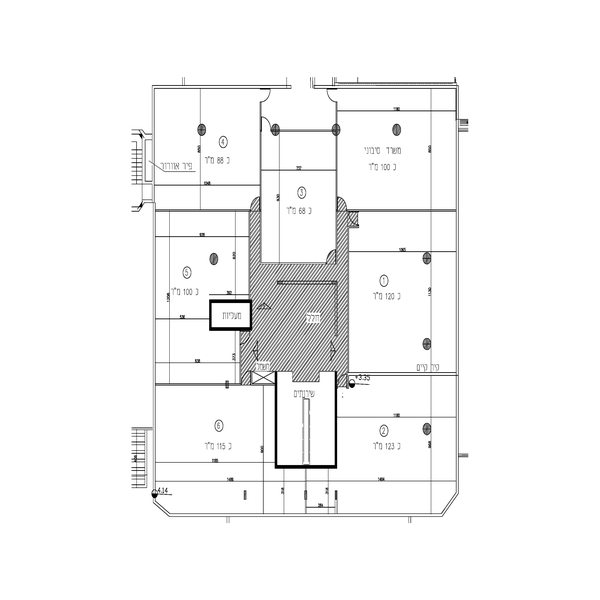room: (261, 369, 349, 474), (200, 289, 256, 336)
wall: (330, 370, 345, 468), (270, 369, 283, 472), (203, 325, 255, 338), (203, 294, 257, 306), (243, 294, 258, 335), (273, 464, 338, 472), (206, 294, 217, 334)
